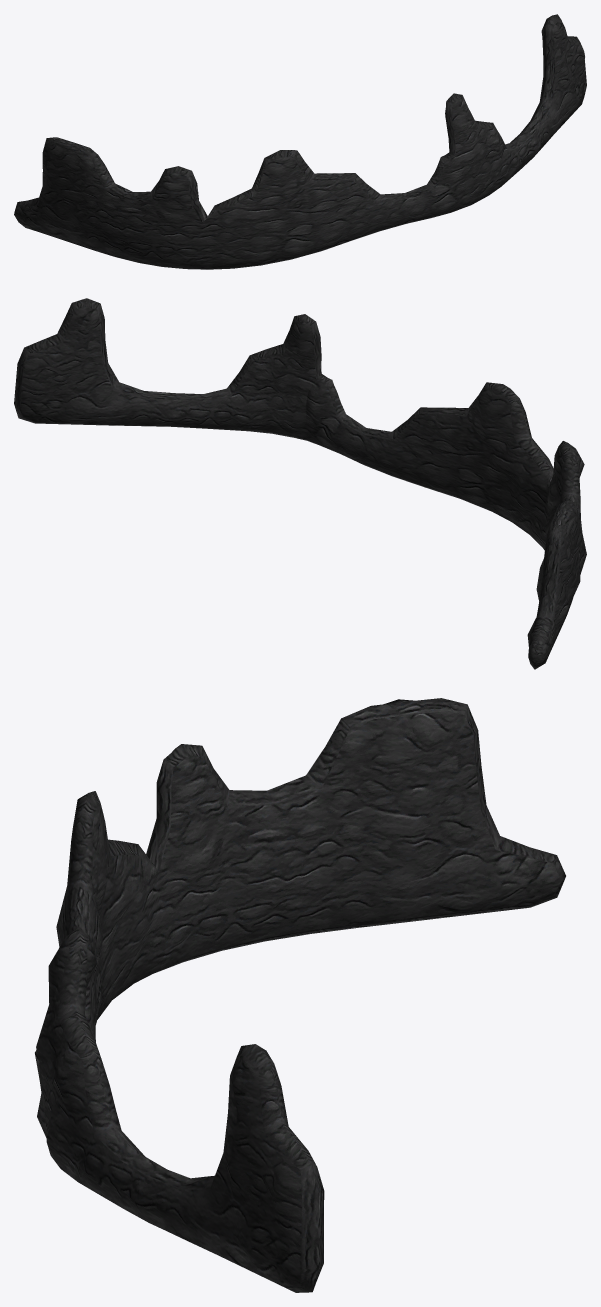
Rendered from RoundWallShape.dae.
The picture shows the model from 3 angles, top to bottom: view 1: azimuth 30°, elevation 25°; view 2: azimuth 150°, elevation 25°; view 3: azimuth 270°, elevation 25°; orthographic projection. The views are drawn at different scales.
Visible parts, largest first — view 1: RoundWall; view 2: RoundWall; view 3: RoundWall.
Part boxes in pixels (box(x1,y1,x2,y2)): RoundWall: box(14, 14, 586, 269); RoundWall: box(14, 298, 586, 669); RoundWall: box(35, 698, 565, 1292).
Size of the model in its own units: 54.23 by 15.55 by 24.47.
